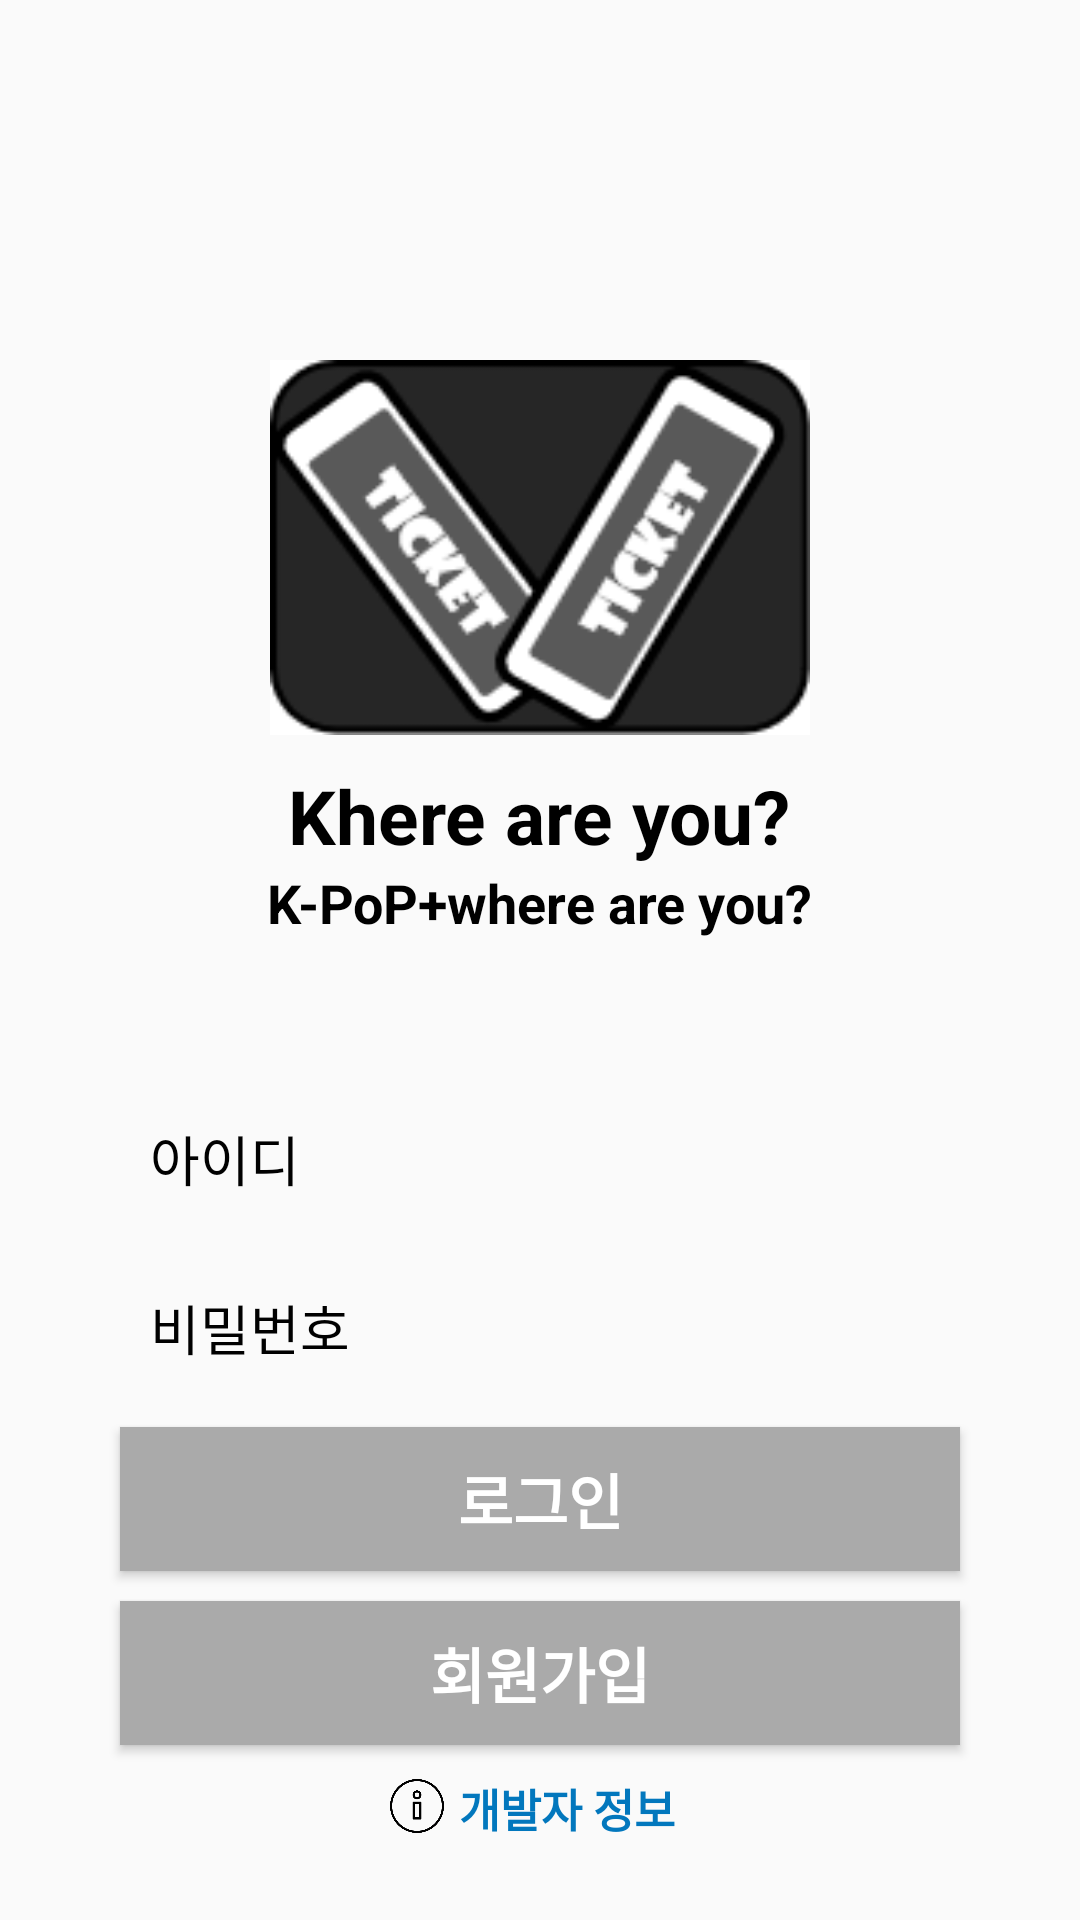

Where to tap for icons on this 1080 x 1920 app screen, as (x,y):
info: (417,1806)
